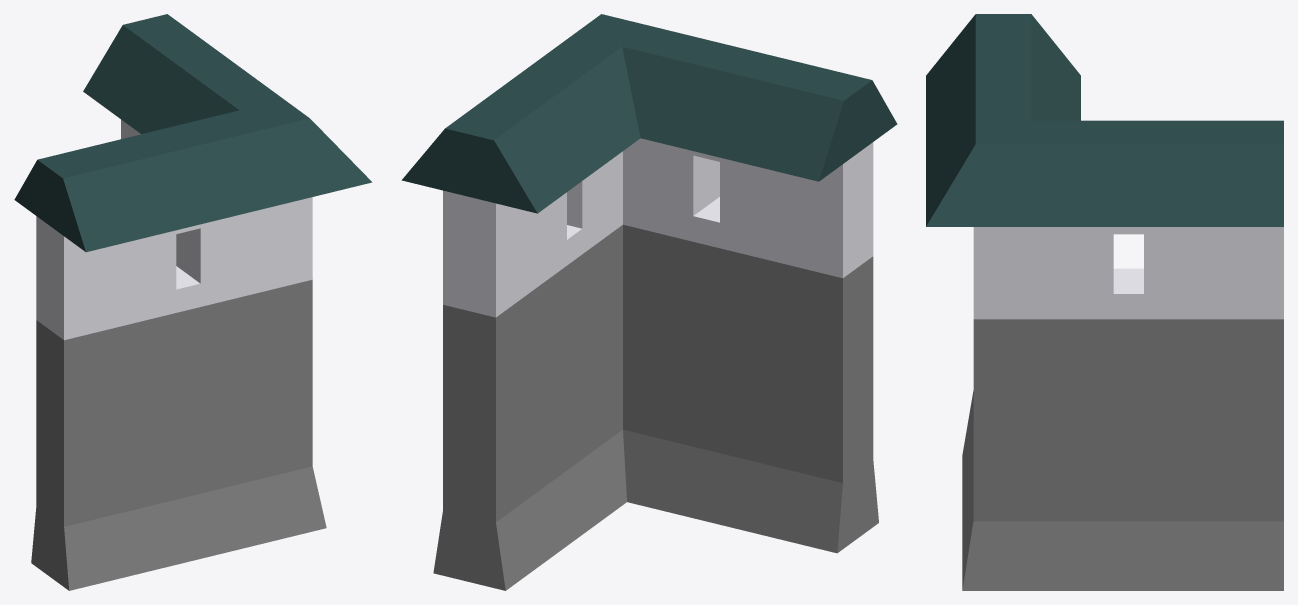
Rendered from Asian_Prop_Building_Fence_Wall_High_Small_Corner_Embrasure_02.FBX.
3 renders of one model, left to right at view 1: azimuth 30°, elevation 25°; view 2: azimuth 150°, elevation 25°; view 3: azimuth 270°, elevation 25°, orthographic. The views are drawn at different scales.
Visible parts, largest first — view 1: Asian_Prop_Building_Fence_Wall_High_Small_Corner_Embrasure_0; view 2: Asian_Prop_Building_Fence_Wall_High_Small_Corner_Embrasure_0; view 3: Asian_Prop_Building_Fence_Wall_High_Small_Corner_Embrasure_0.
Boxes of the visible parts, <box> form: Asian_Prop_Building_Fence_Wall_High_Small_Corner_Embrasure_0: <box>14,14,372,590</box>; Asian_Prop_Building_Fence_Wall_High_Small_Corner_Embrasure_0: <box>401,14,897,590</box>; Asian_Prop_Building_Fence_Wall_High_Small_Corner_Embrasure_0: <box>926,14,1283,590</box>.
Bounding box in the file's own units: 2979 × 4051 × 2979.
